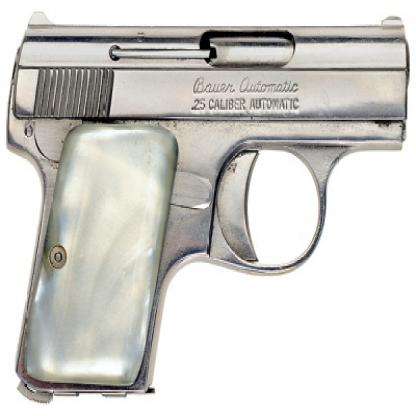Guns: (1, 5, 411, 414)
